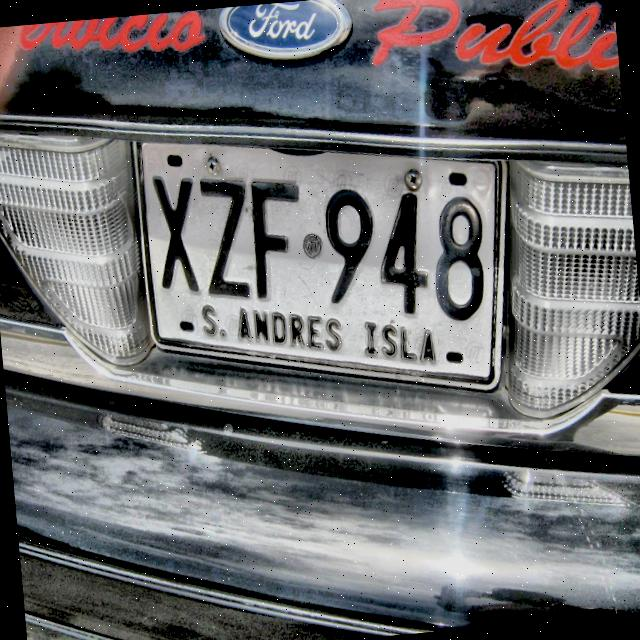4: (373, 187, 433, 318)
8: (429, 191, 489, 328)
9: (318, 172, 382, 314)
F: (244, 168, 308, 304)
X: (145, 167, 204, 300)
Z: (196, 170, 256, 302)
